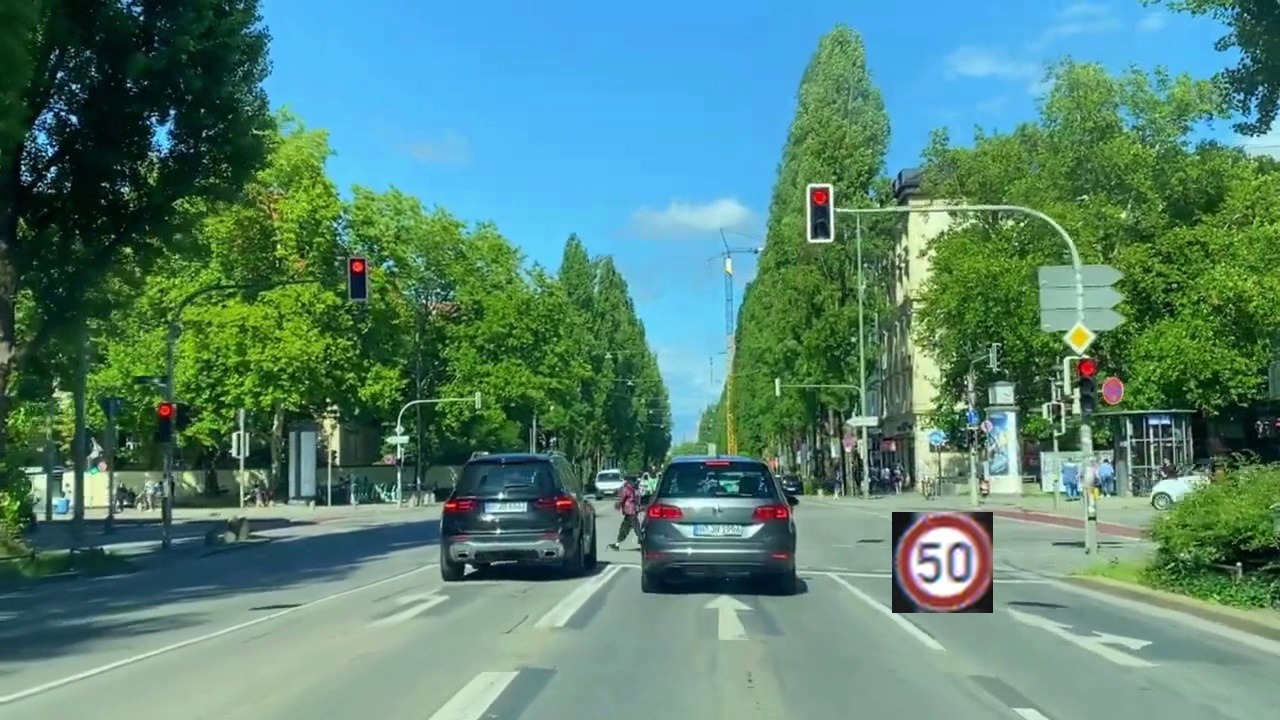Speed 50: (892, 512, 993, 613)
